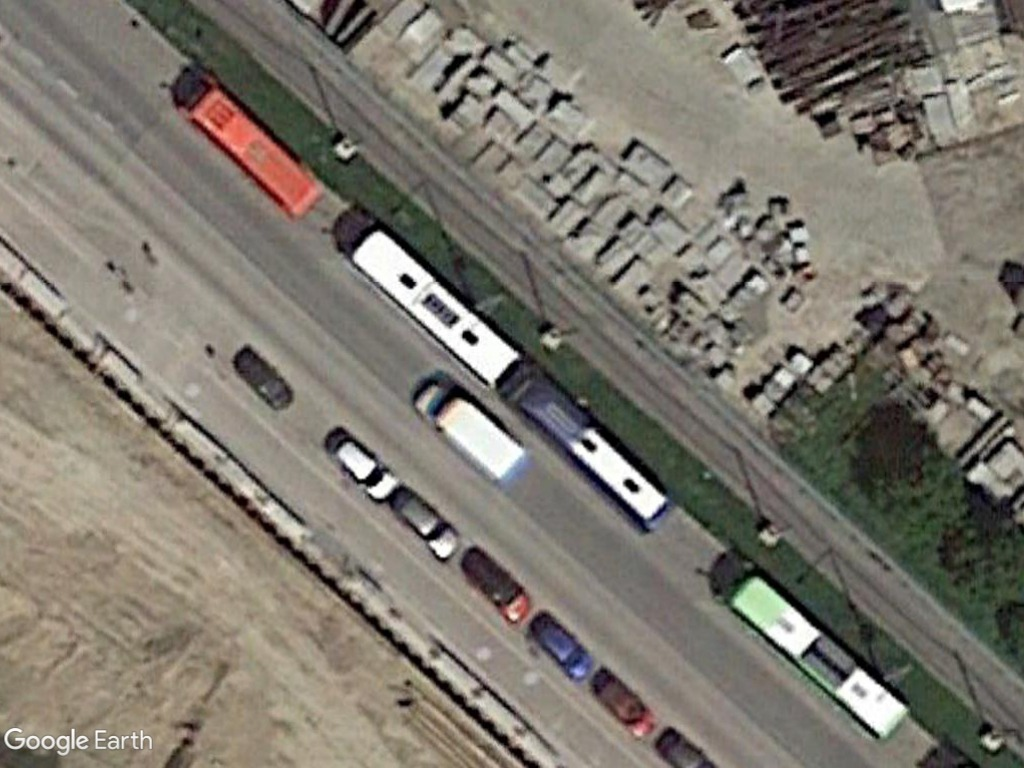bus: (728, 569, 916, 746), (349, 221, 523, 389), (503, 367, 671, 530), (180, 77, 329, 224)
car: (326, 428, 400, 506), (388, 484, 461, 560), (588, 662, 656, 736), (531, 612, 595, 688)
van: (408, 380, 532, 490)
